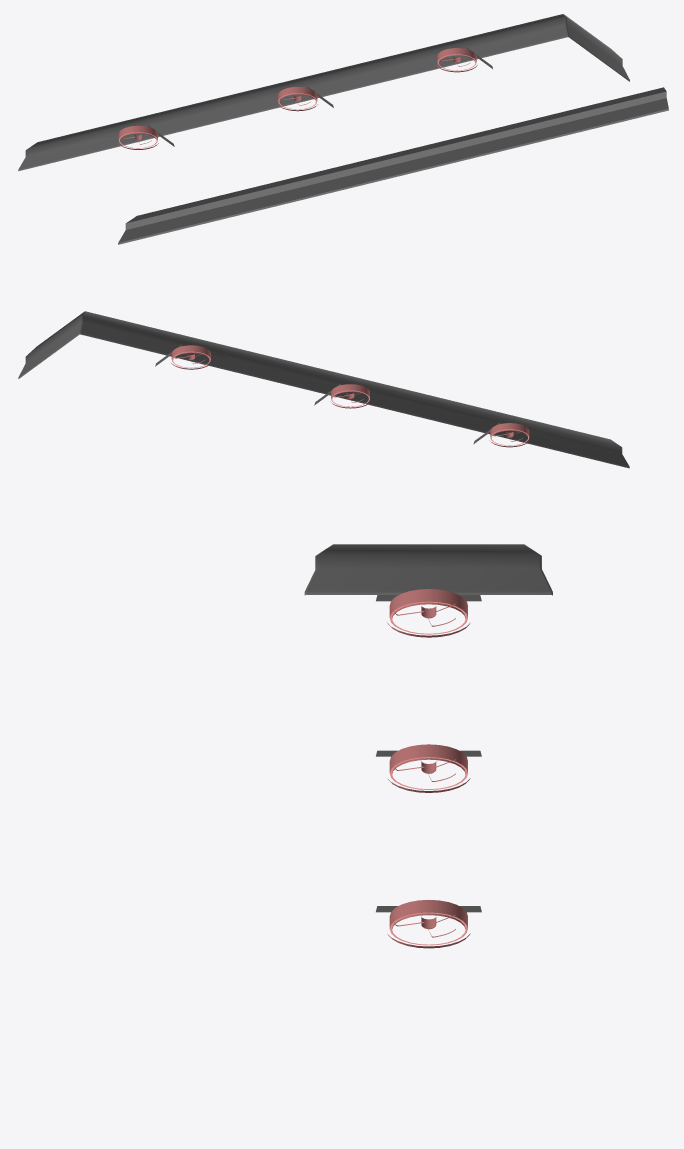
Rendered from S_Envi_FZFBase_Roof_03a.gltf.
3 renders of one model, top to bottom at view 1: azimuth 30°, elevation 25°; view 2: azimuth 150°, elevation 25°; view 3: azimuth 270°, elevation 25°, orthographic. The views are drawn at different scales.
Parts seen in each view (by area): view 1: S_Envi_FZFBase_Roof_03a; view 2: S_Envi_FZFBase_Roof_03a; view 3: S_Envi_FZFBase_Roof_03a.
Boxes of the visible parts, <box> form: S_Envi_FZFBase_Roof_03a: <box>18,14,668,244</box>; S_Envi_FZFBase_Roof_03a: <box>18,311,629,468</box>; S_Envi_FZFBase_Roof_03a: <box>304,544,552,948</box>.
Bounding box in the file's own units: 21.5 × 1.43 × 7.28.
